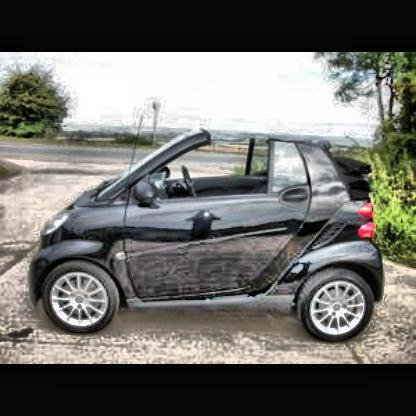smart fortwo Convertible 2012: (32, 118, 386, 348)
